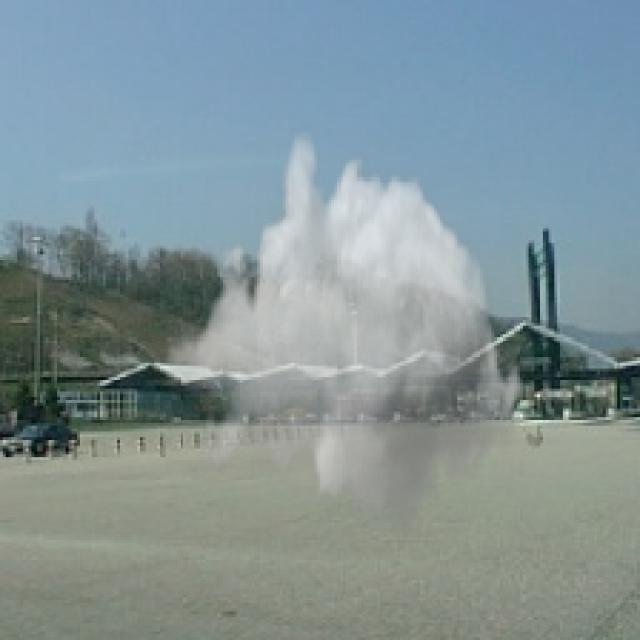Smoke: (166, 125, 528, 546)
